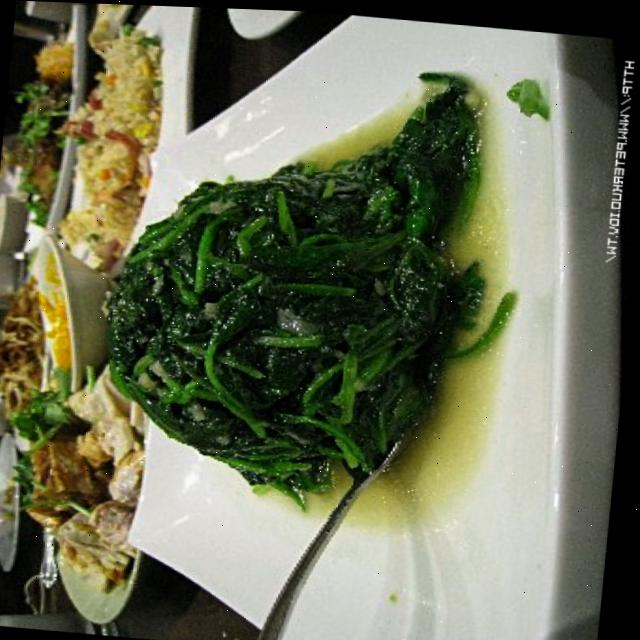蔬菜料理: (38, 24, 580, 562)
